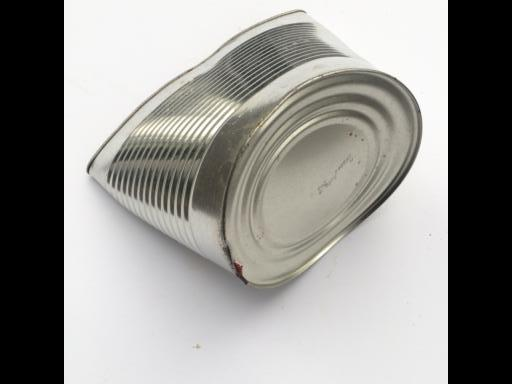metal: (87, 10, 423, 288)
